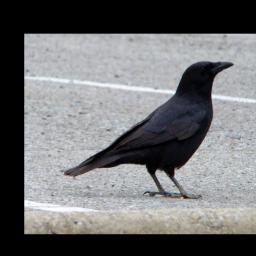Crow: (63, 60, 235, 199)
